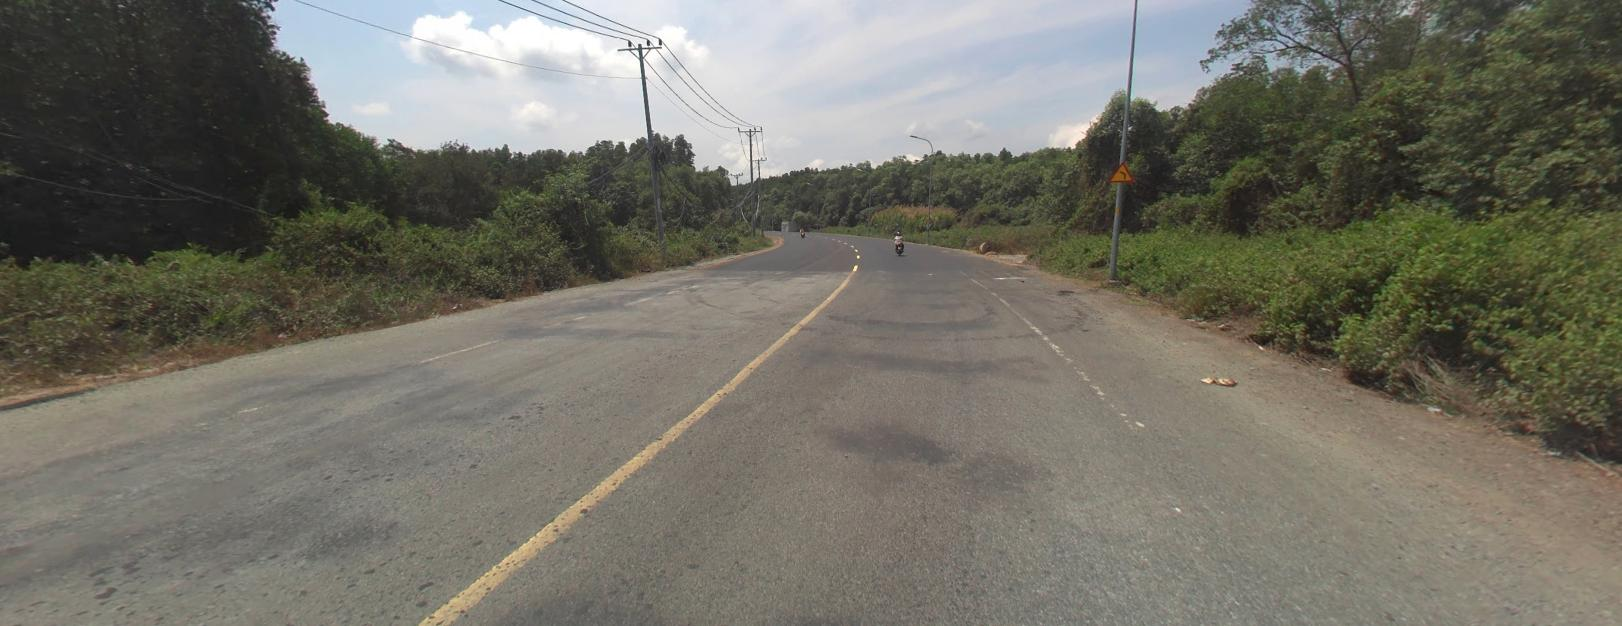Nguy hiem: (1108, 160, 1135, 181)
